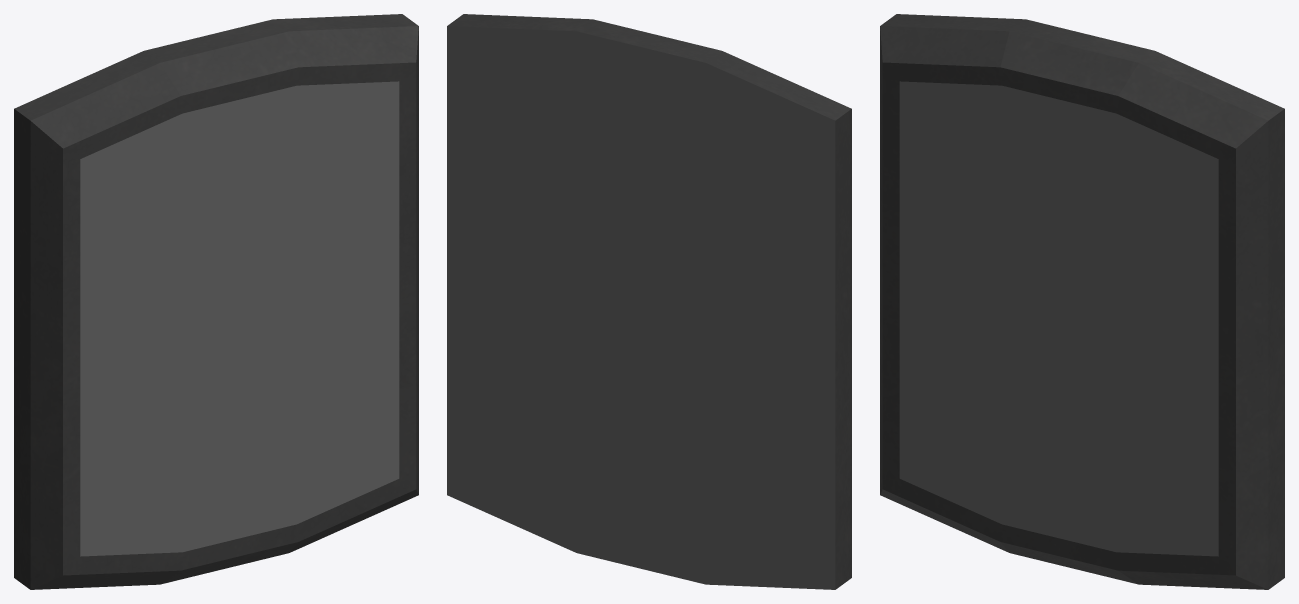
File: MIrror.fbx
The picture shows the model from 3 angles, left to right: view 1: azimuth 30°, elevation 25°; view 2: azimuth 150°, elevation 25°; view 3: azimuth 330°, elevation 25°; orthographic projection.
Parts seen in each view (by area): view 1: MIrror; view 2: MIrror; view 3: MIrror.
Part boxes in pixels (<box>): MIrror: <box>14,14,418,589</box>; MIrror: <box>447,14,851,589</box>; MIrror: <box>880,14,1284,589</box>.
Size of the model in its own units: 0.8659 by 1.11 by 0.1213.
